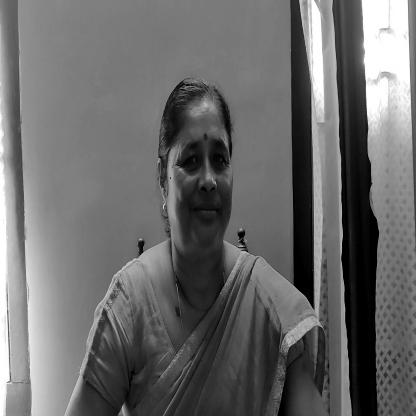Normal: (158, 84, 234, 250)
